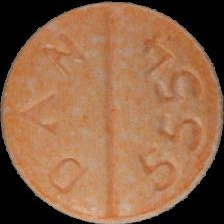61786-346: (0, 0, 224, 224)
